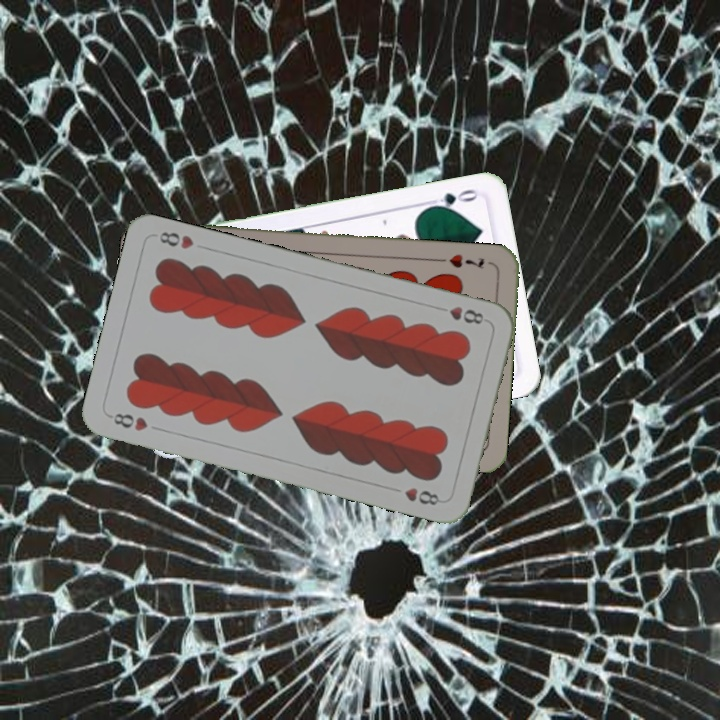GO: (423, 185, 480, 213)
H7: (446, 250, 487, 272)
H8: (432, 302, 487, 327), (105, 409, 151, 434)
